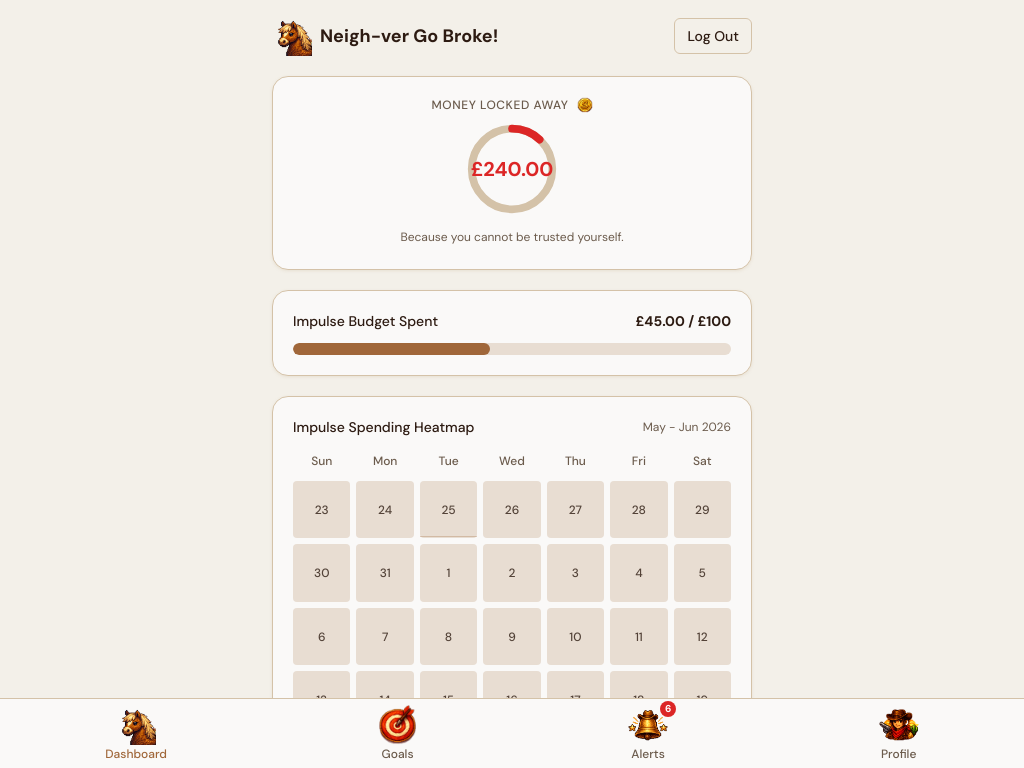
MainApp › switches to Profile tab
Click the button "Profile". click: click(899, 734)
box: [871,703,927,764]
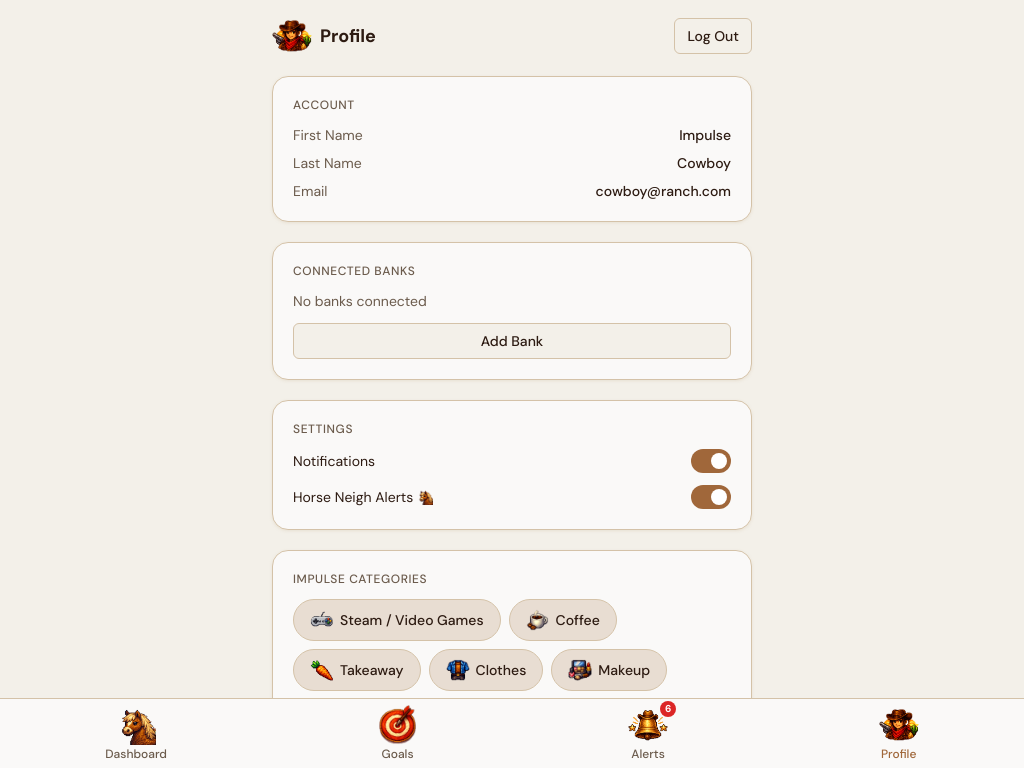
Check: the heading "Profile" is shown, box [320,22,376,50]
